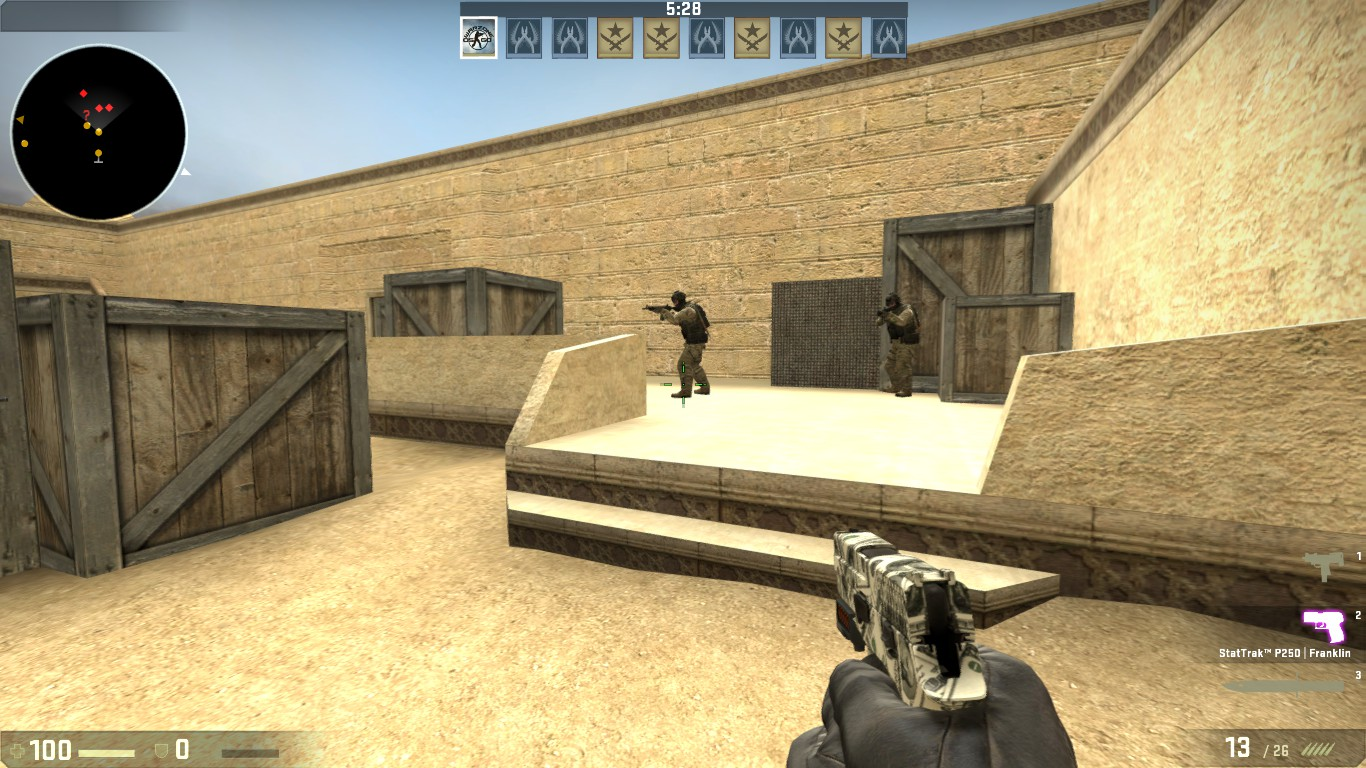c: (664, 290, 710, 397), (876, 291, 921, 397)
ch: (882, 291, 902, 312), (667, 291, 690, 308)
